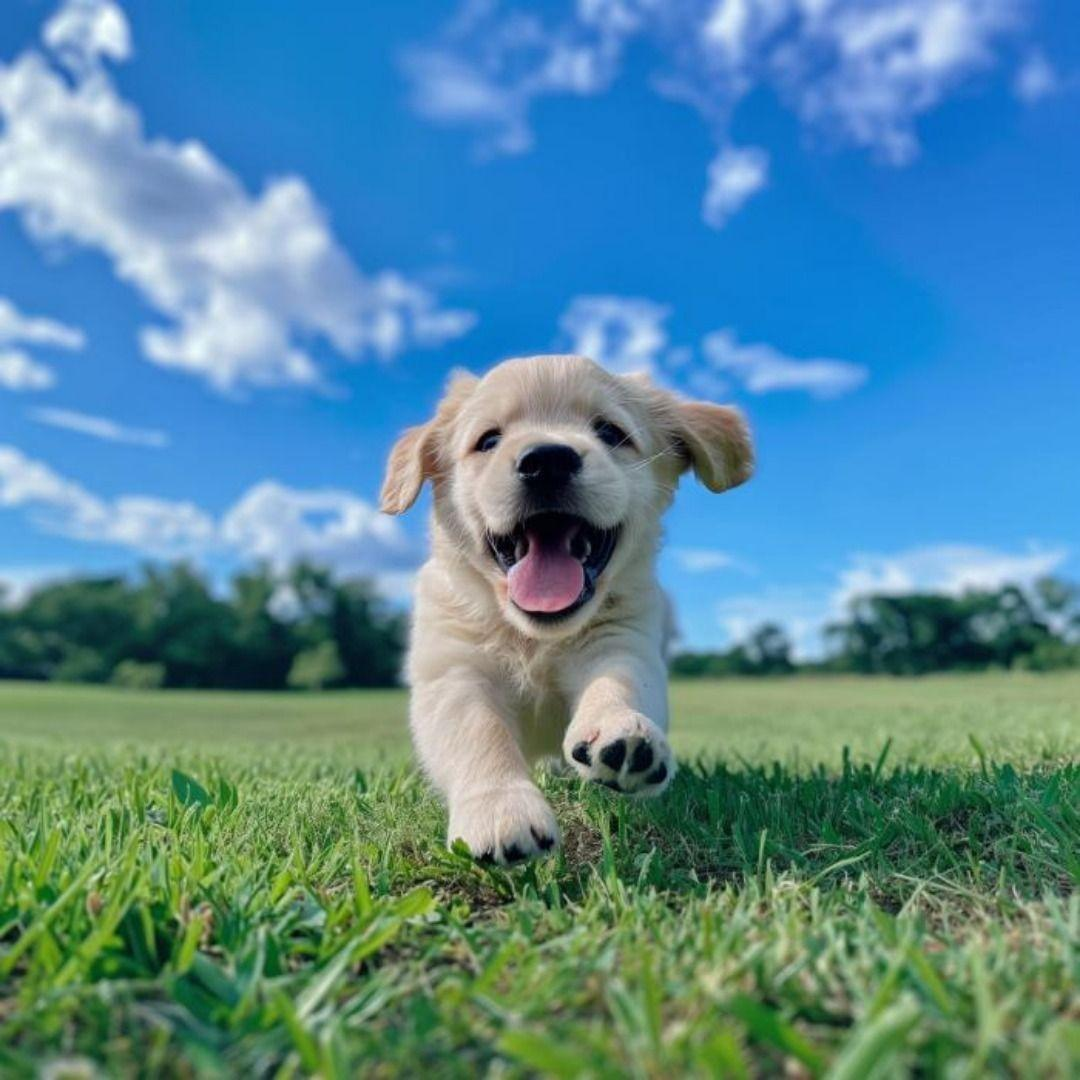puppy-dog: (379, 350, 754, 870)
